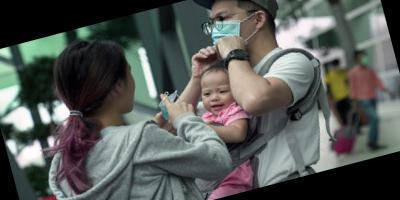with_mask: (204, 0, 260, 61)
without_mask: (198, 81, 239, 120), (113, 64, 144, 115)
